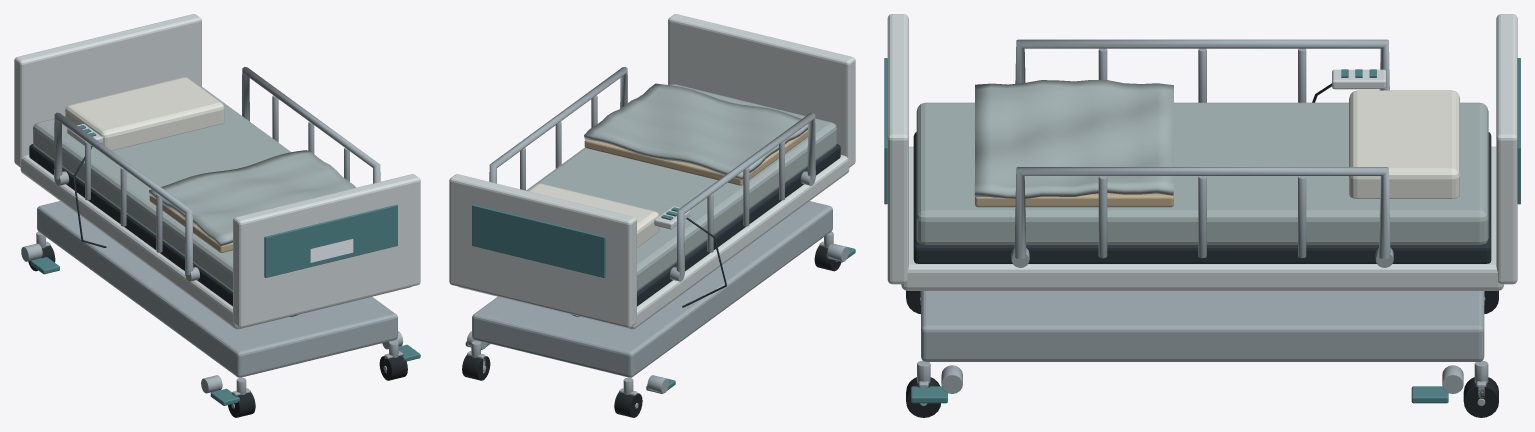
The model's file is SF_LivingBed.fbx.
The picture shows the model from 3 angles, left to right: view 1: azimuth 30°, elevation 25°; view 2: azimuth 150°, elevation 25°; view 3: azimuth 270°, elevation 25°; orthographic projection. The views are drawn at different scales.
Visible parts, largest first — view 1: SF_LivingBed; view 2: SF_LivingBed; view 3: SF_LivingBed.
Part boxes in pixels (left/top/right/bottom): SF_LivingBed: left=14, top=14, right=420, bottom=417; SF_LivingBed: left=449, top=14, right=855, bottom=417; SF_LivingBed: left=884, top=14, right=1520, bottom=417.
Size of the model in its own units: 115 by 111 by 224.
